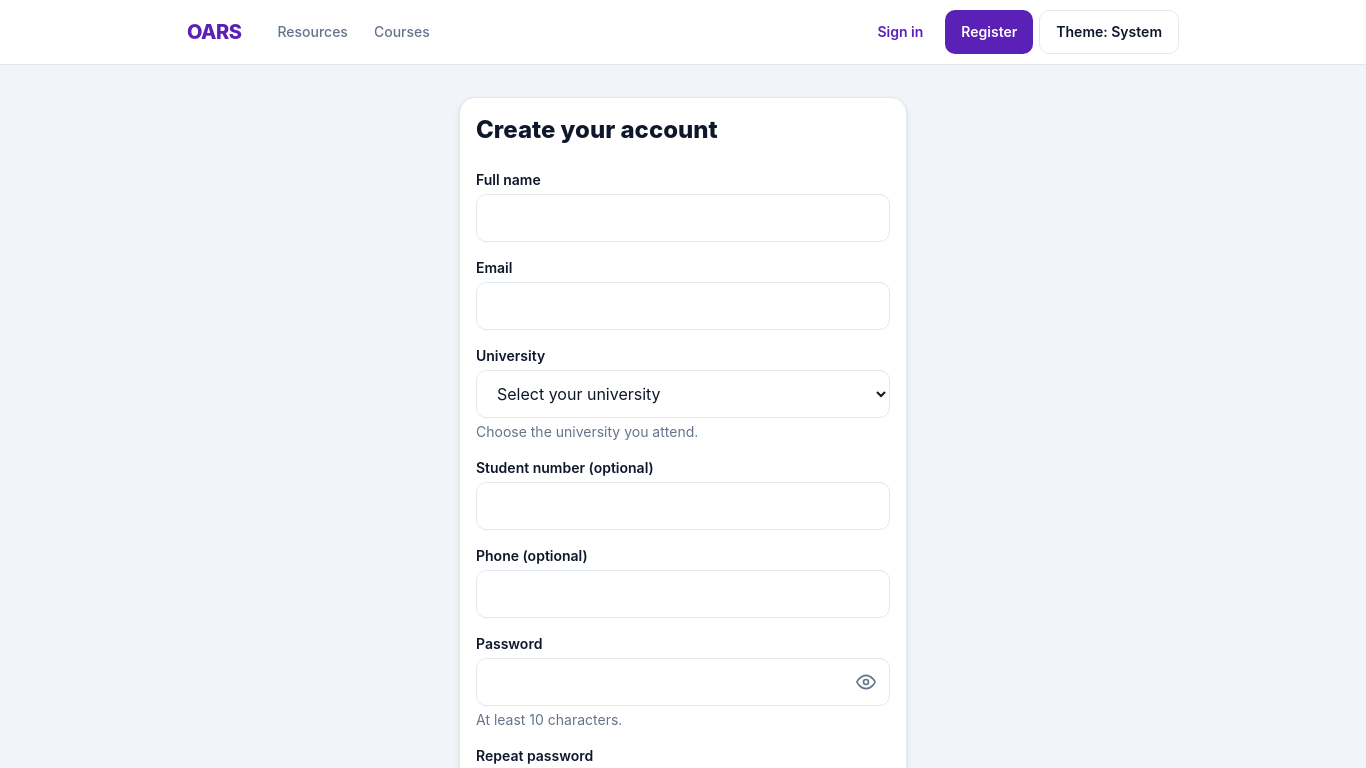
Test: RegisterPage › validates fields locally and never sends invalid data
Type "short" into the password field labelled "Password" at x=683, y=682, box x1=476 y1=658 x2=890 y2=706
(page scrolled)
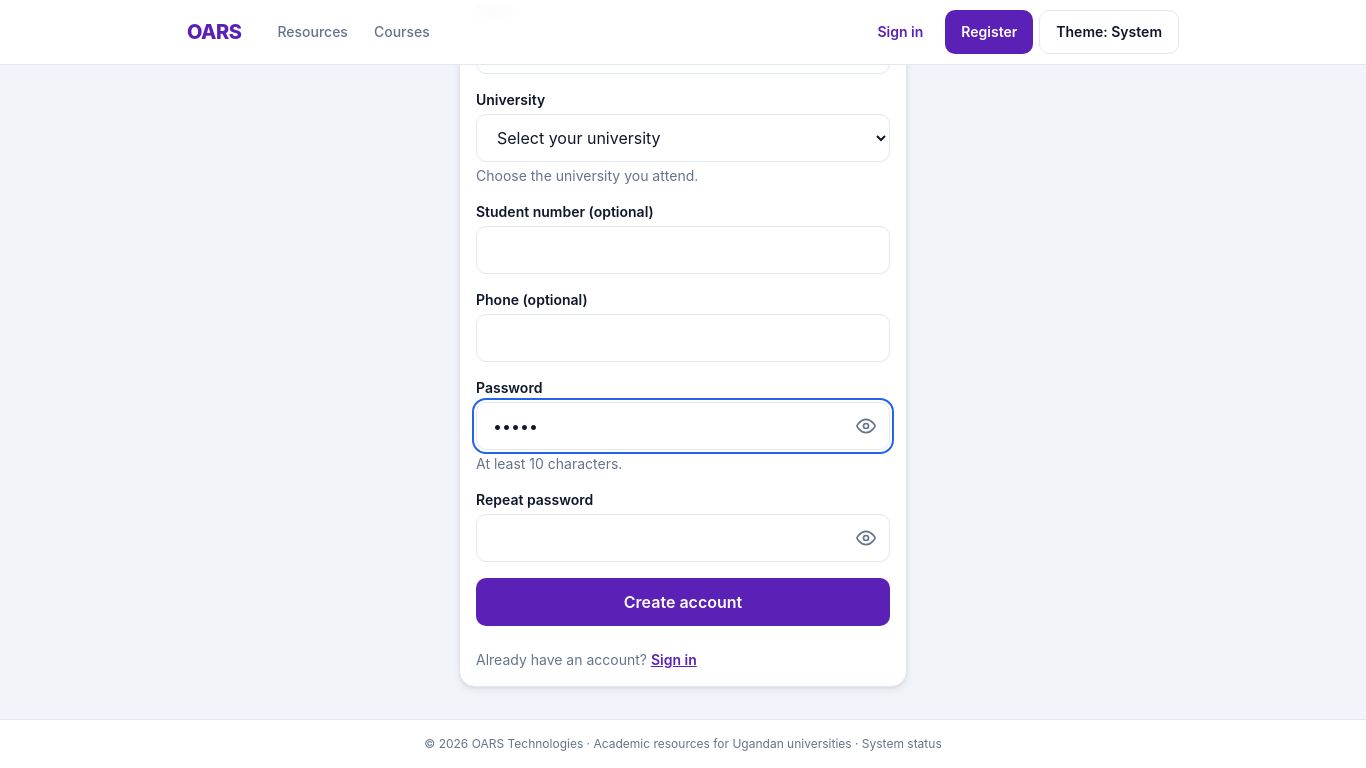
Type "different" into the password field labelled "Repeat password" at x=683, y=538, box x1=476 y1=514 x2=890 y2=562
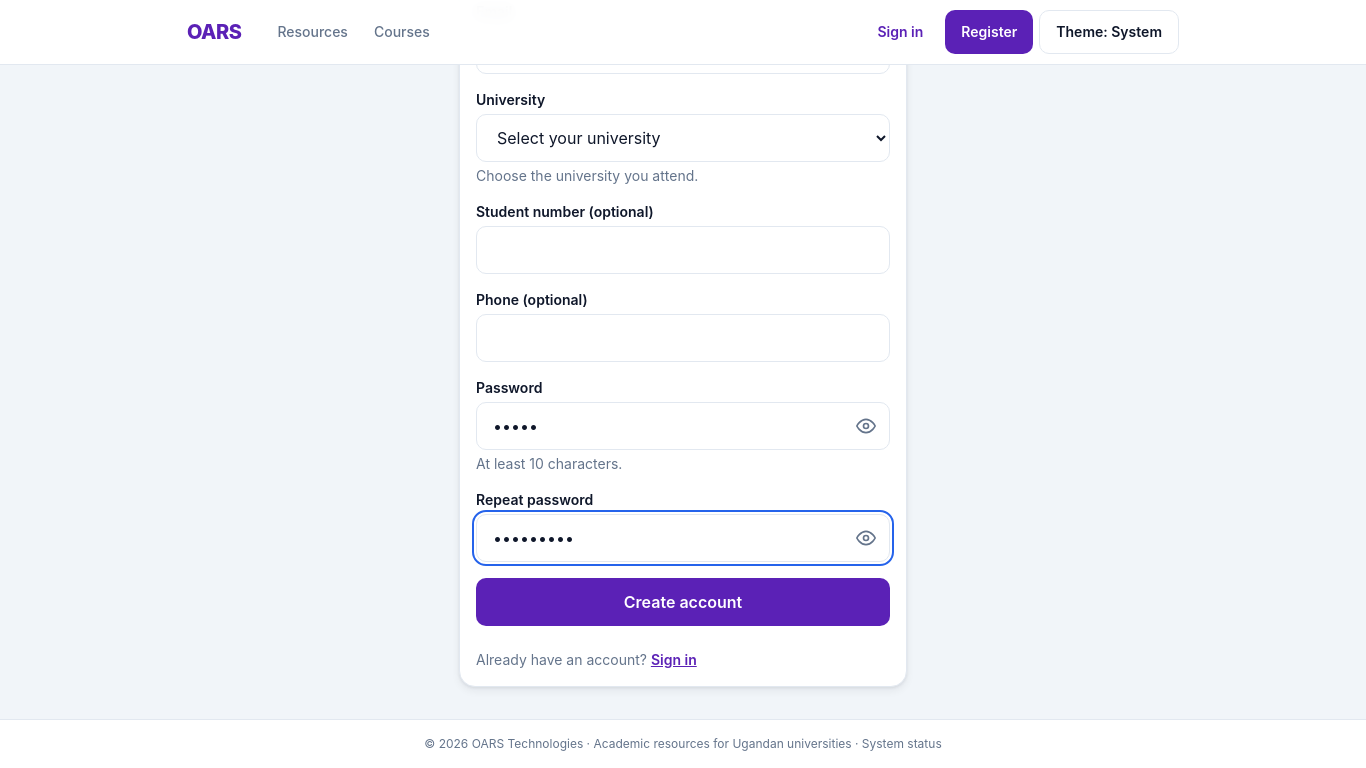
Click the button "Create account" at x=683, y=602, box x1=476 y1=578 x2=890 y2=626
(page scrolled)
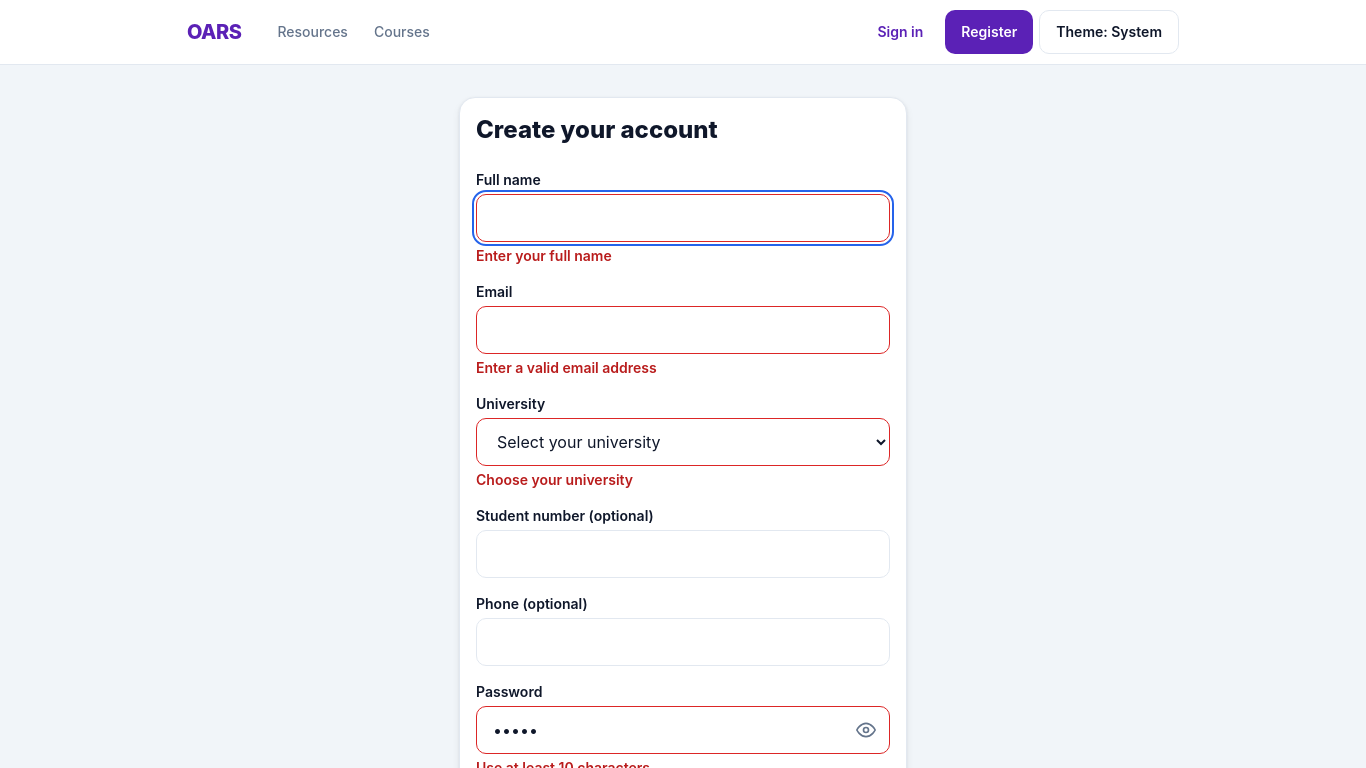
Now the text "Enter your full name" is shown, box x1=476 y1=247 x2=612 y2=264
Now the text "Choose your university" is shown, box x1=476 y1=471 x2=633 y2=488
